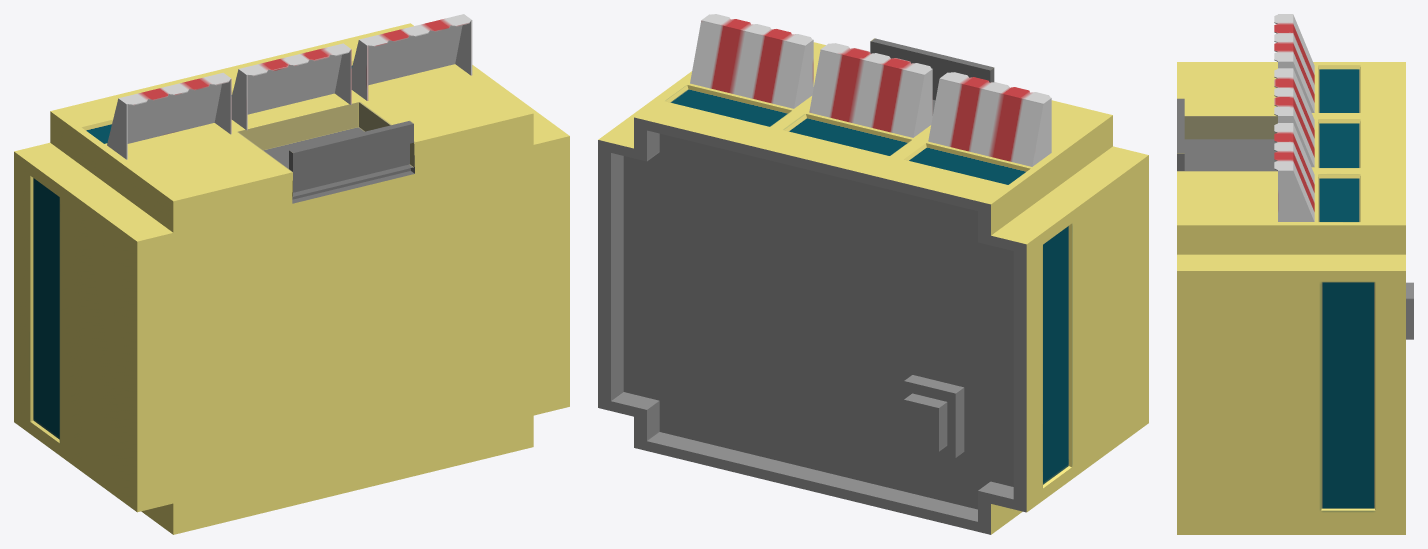
The model's file is stores-buildings-sunblind.fbx.
3 renders of one model, left to right at view 1: azimuth 30°, elevation 25°; view 2: azimuth 150°, elevation 25°; view 3: azimuth 270°, elevation 25°, orthographic. The views are drawn at different scales.
Parts seen in each view (by area): view 1: stores-buildings-sunblind; view 2: stores-buildings-sunblind; view 3: stores-buildings-sunblind.
Boxes of the visible parts, x1,y1,x2,y2 form: stores-buildings-sunblind: (14,14,569,534); stores-buildings-sunblind: (598,14,1148,534); stores-buildings-sunblind: (1177,14,1413,534).
Bounding box in the file's own units: 8.03 × 6.9 × 4.1.
